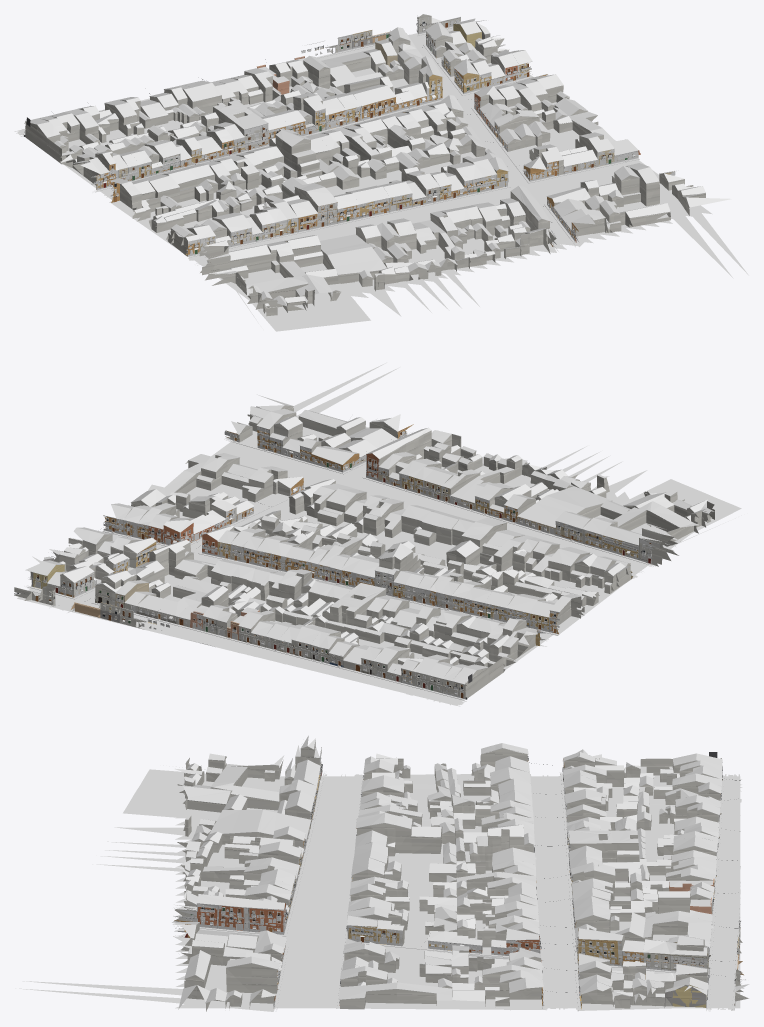
File: zona_2_-2.glb
The picture shows the model from 3 angles, top to bottom: view 1: azimuth 30°, elevation 25°; view 2: azimuth 150°, elevation 25°; view 3: azimuth 270°, elevation 25°; orthographic projection. The views are drawn at different scales.
Parts seen in each view (by area): view 1: z_tejados_2_-2, z_casas_2_-2, z_calle_2_-2, z_fachadas_2_-2, z_casas_planas_2_-2, z_suelo_2_-2; view 2: z_tejados_2_-2, z_casas_2_-2, z_calle_2_-2, z_fachadas_2_-2, z_casas_planas_2_-2, z_suelo_2_-2; view 3: z_tejados_2_-2, z_calle_2_-2, z_casas_2_-2, z_fachadas_2_-2, z_suelo_2_-2, z_casas_planas_2_-2.
Boxes of the visible parts, <box> form: z_tejados_2_-2: <box>26,14,731,307</box>; z_casas_2_-2: <box>25,14,705,316</box>; z_calle_2_-2: <box>17,26,748,331</box>; z_fachadas_2_-2: <box>23,16,675,262</box>; z_casas_planas_2_-2: <box>24,17,640,310</box>; z_suelo_2_-2: <box>14,28,573,265</box>; z_tejados_2_-2: <box>26,394,714,684</box>; z_casas_2_-2: <box>25,405,714,697</box>; z_calle_2_-2: <box>14,362,741,705</box>; z_fachadas_2_-2: <box>14,426,659,699</box>; z_casas_planas_2_-2: <box>14,427,684,698</box>; z_suelo_2_-2: <box>19,464,651,706</box>; z_tejados_2_-2: <box>172,735,749,1009</box>; z_calle_2_-2: <box>15,765,745,1011</box>; z_casas_2_-2: <box>174,740,747,1011</box>; z_fachadas_2_-2: <box>173,747,743,1008</box>; z_suelo_2_-2: <box>184,762,742,1009</box>; z_casas_planas_2_-2: <box>173,745,748,1005</box>.
Size of the model in its own units: 218 by 15.22 by 265.
